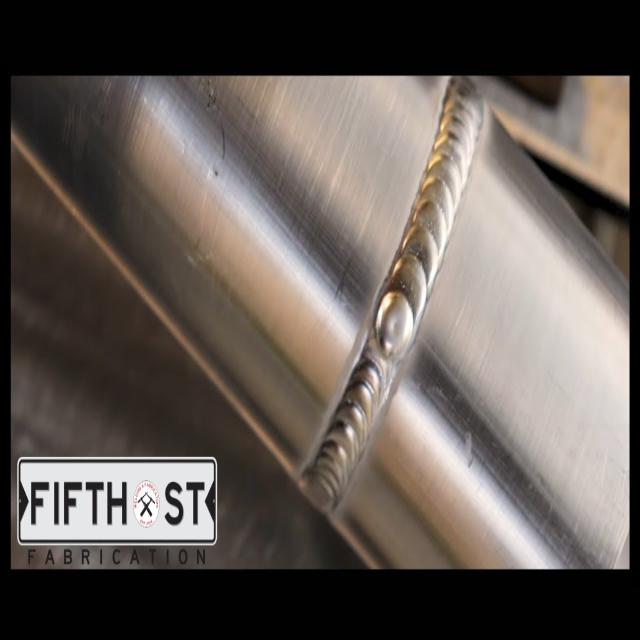Dry: (297, 77, 491, 515)
